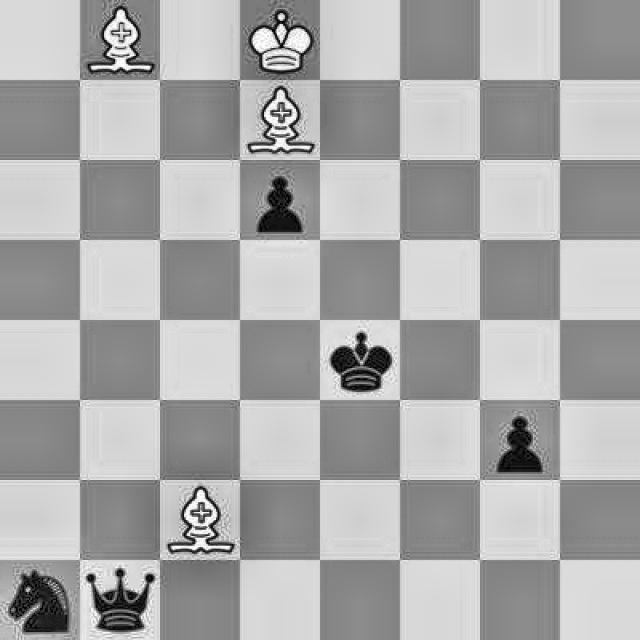Black Knight: (1, 565, 76, 636)
black king: (325, 324, 402, 396)
black pawn: (479, 403, 556, 478), (252, 161, 310, 238)
black queen: (86, 559, 154, 636)
white bishop: (82, 2, 154, 77), (242, 84, 316, 156), (166, 484, 238, 558)
white king: (243, 1, 320, 79)
